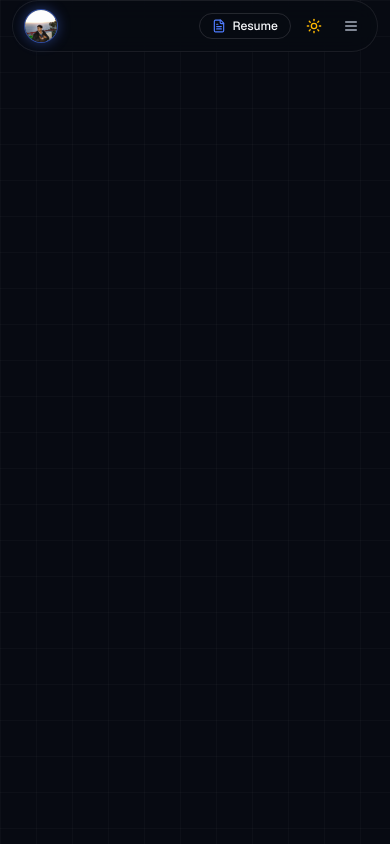
Test: Navbar Component › toggles mobile menu when hamburger button is clicked
What coordinates should you click on to do the following:
click the button named "open menu"
I would click on:
 (351, 26)
Its box is [337,12,365,40].
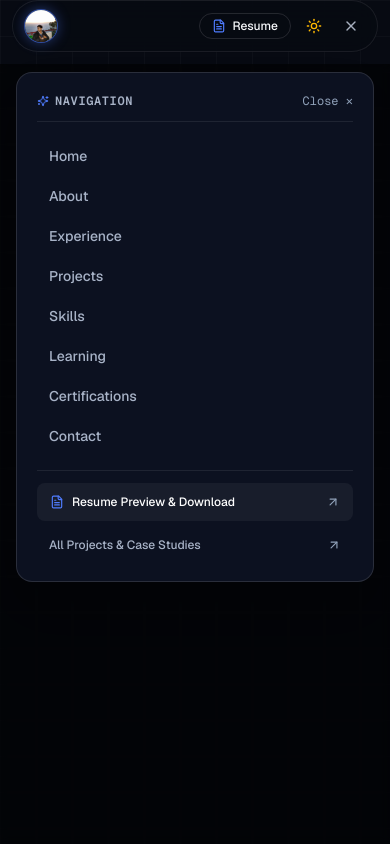
Now the button named "close menu" is shown, box [337,12,365,40]
Now the text "All Projects & Case Studies" is shown, box [49,537,201,553]
